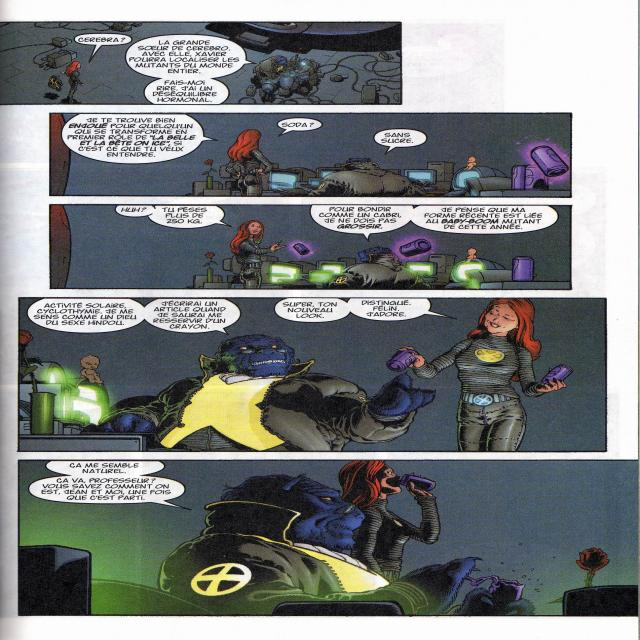comic_panel: (18, 296, 605, 450), (48, 204, 572, 291), (48, 112, 573, 198), (0, 20, 403, 106)
